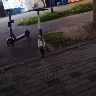beam: (3, 7, 31, 48)
gcooter: (25, 6, 50, 58)
